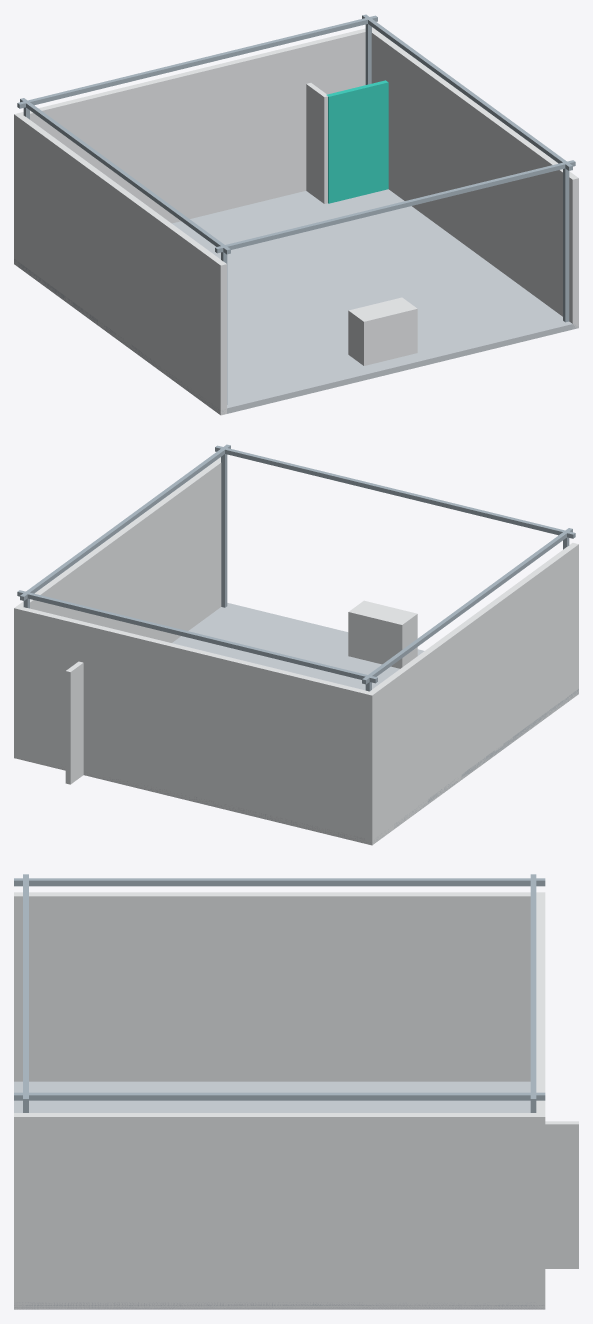
3 renders of one model, top to bottom at view 1: azimuth 30°, elevation 25°; view 2: azimuth 150°, elevation 25°; view 3: azimuth 270°, elevation 25°, orthographic. The views are drawn at different scales.
Visible parts, largest first — view 1: Exhibition Booth Concept; view 2: Exhibition Booth Concept; view 3: Exhibition Booth Concept.
Part boxes in pixels (x1=…): Exhibition Booth Concept: x1=14, y1=14, x2=578, y2=415; Exhibition Booth Concept: x1=14, y1=444, x2=578, y2=845; Exhibition Booth Concept: x1=14, y1=874, x2=578, y2=1309.
Size of the model in its own units: 8 by 3.49 by 8.51.
